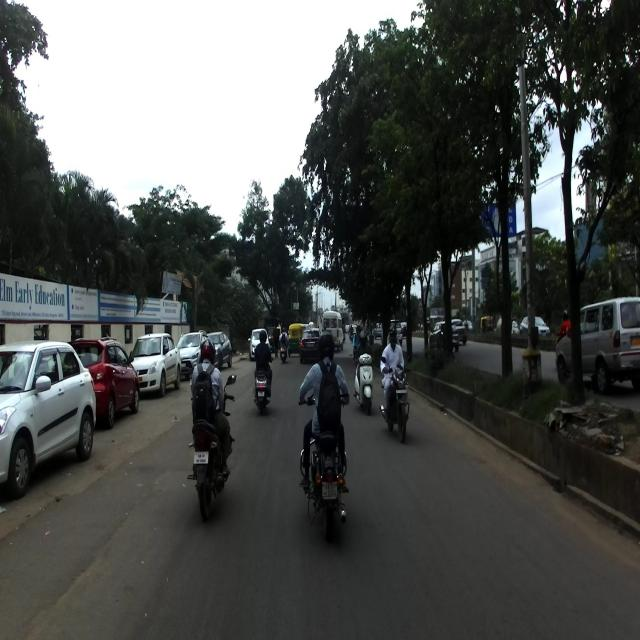Car: (555, 295, 640, 394), (64, 335, 140, 429)
Car_Maruti-Suzuki: (0, 339, 96, 501), (130, 332, 180, 397)
motorcycle_Hero: (188, 374, 237, 518)
motorcycle_Honda: (380, 352, 412, 444)
motorcycle_RoyalEnfield: (298, 390, 348, 539)
scooter: (351, 348, 376, 416), (252, 345, 275, 415)
